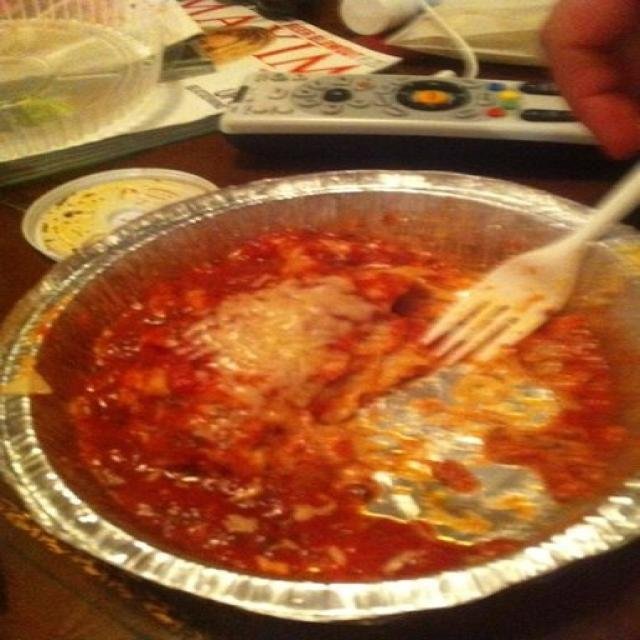Lasagna: (77, 223, 618, 567)
